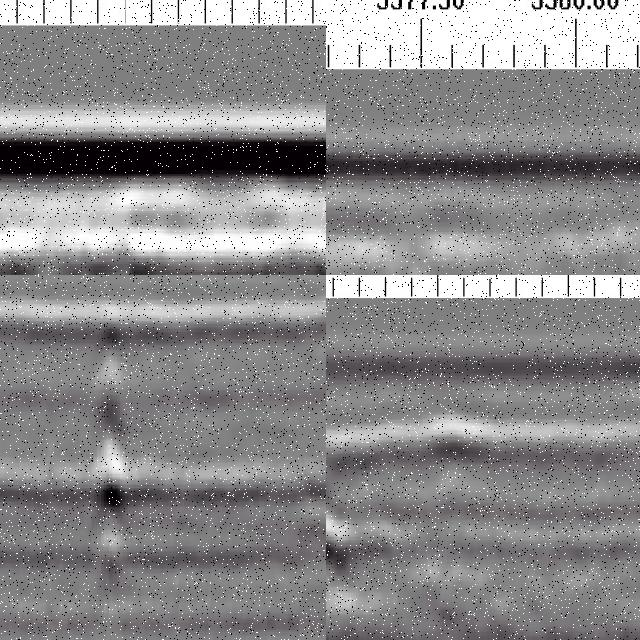crack: (327, 437, 462, 640), (89, 305, 134, 625)
